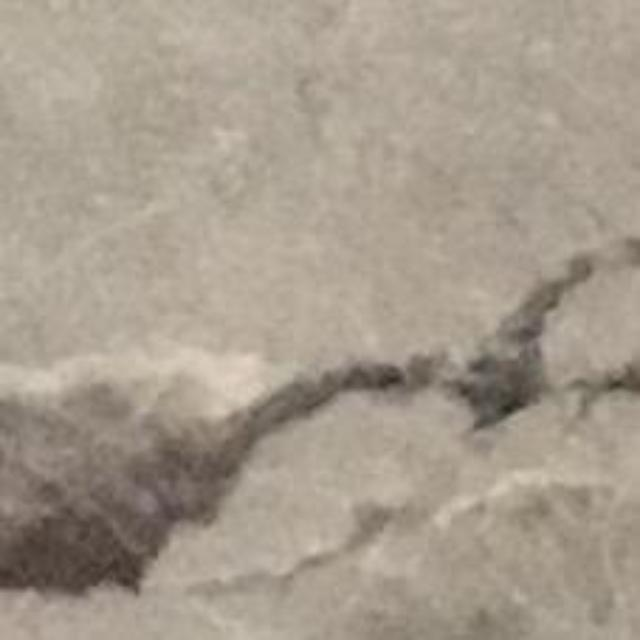crack: (0, 240, 639, 592)
